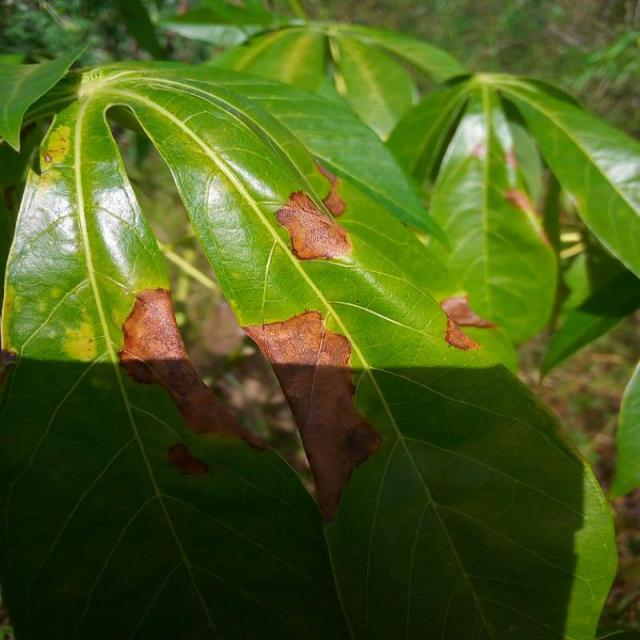cassava leaf: (1, 44, 632, 637)
